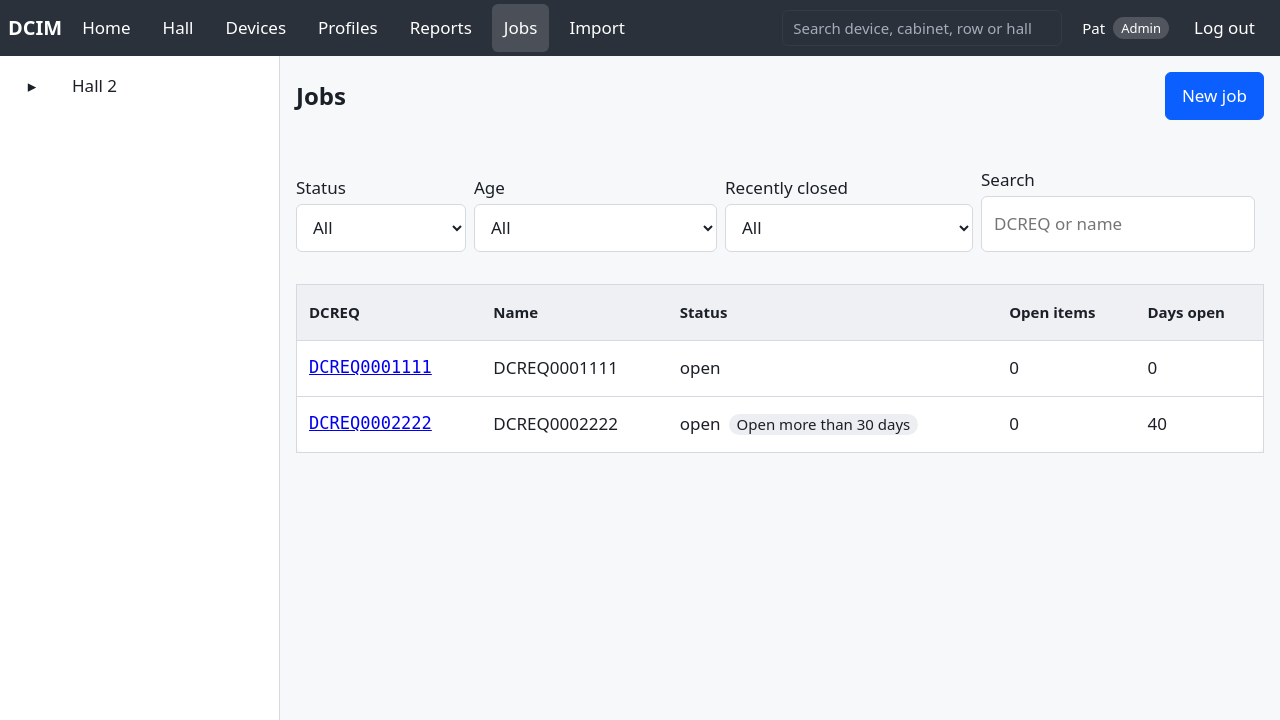
jobs list › filters to jobs open more than 30 days
This screenshot has width=1280, height=720.
Expected: the table named "Jobs" is shown, [296, 284, 1264, 453]
Select "Open more than 30 days" in the dropdown labelled "Age" at (596, 228), box [474, 204, 717, 252]
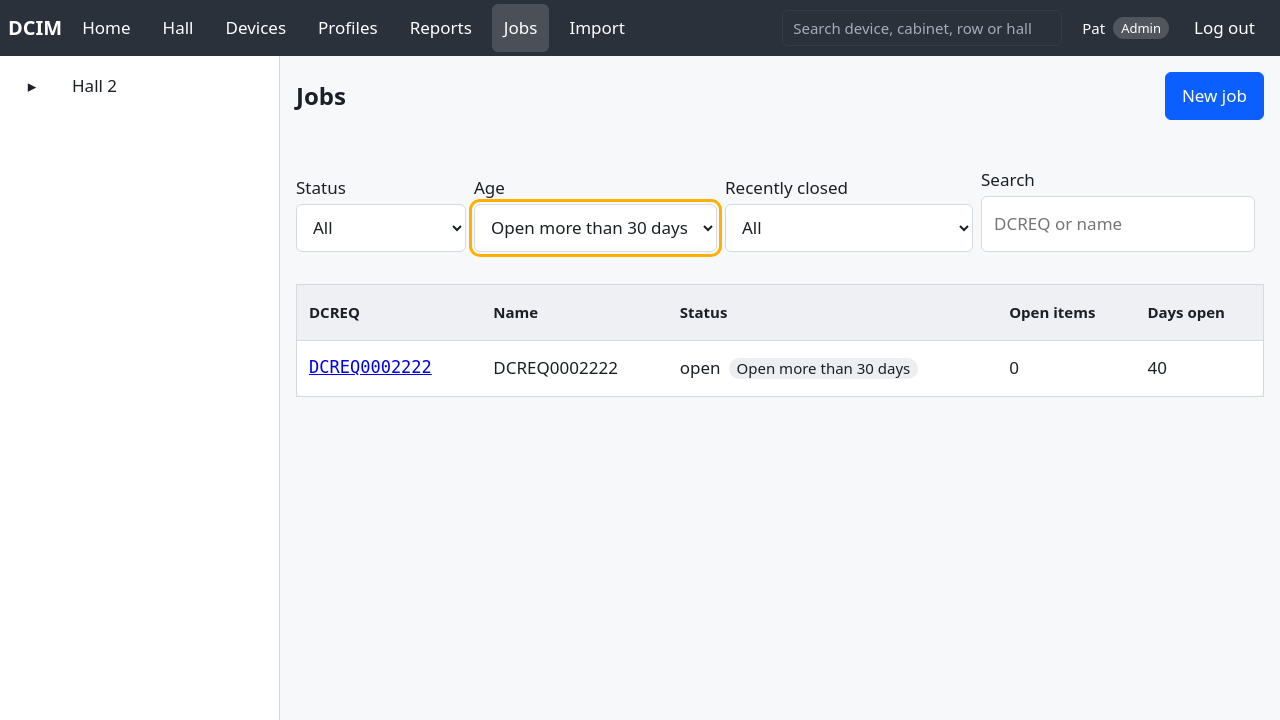
Expected: the link "DCREQ0002222" is shown, [309, 357, 432, 377]
Result: the link "DCREQ0001111" is gone
